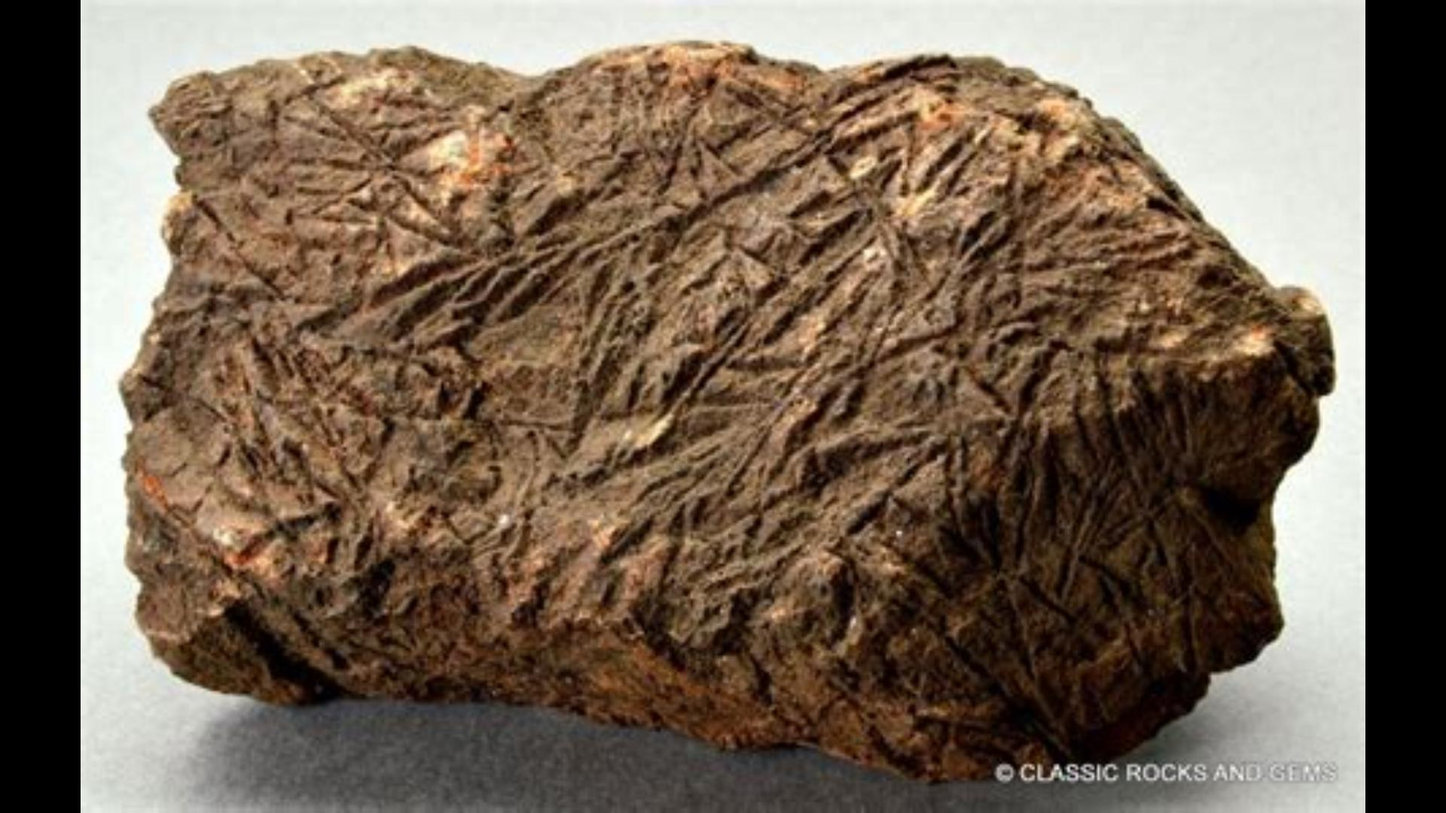rock: (124, 46, 1330, 778)
